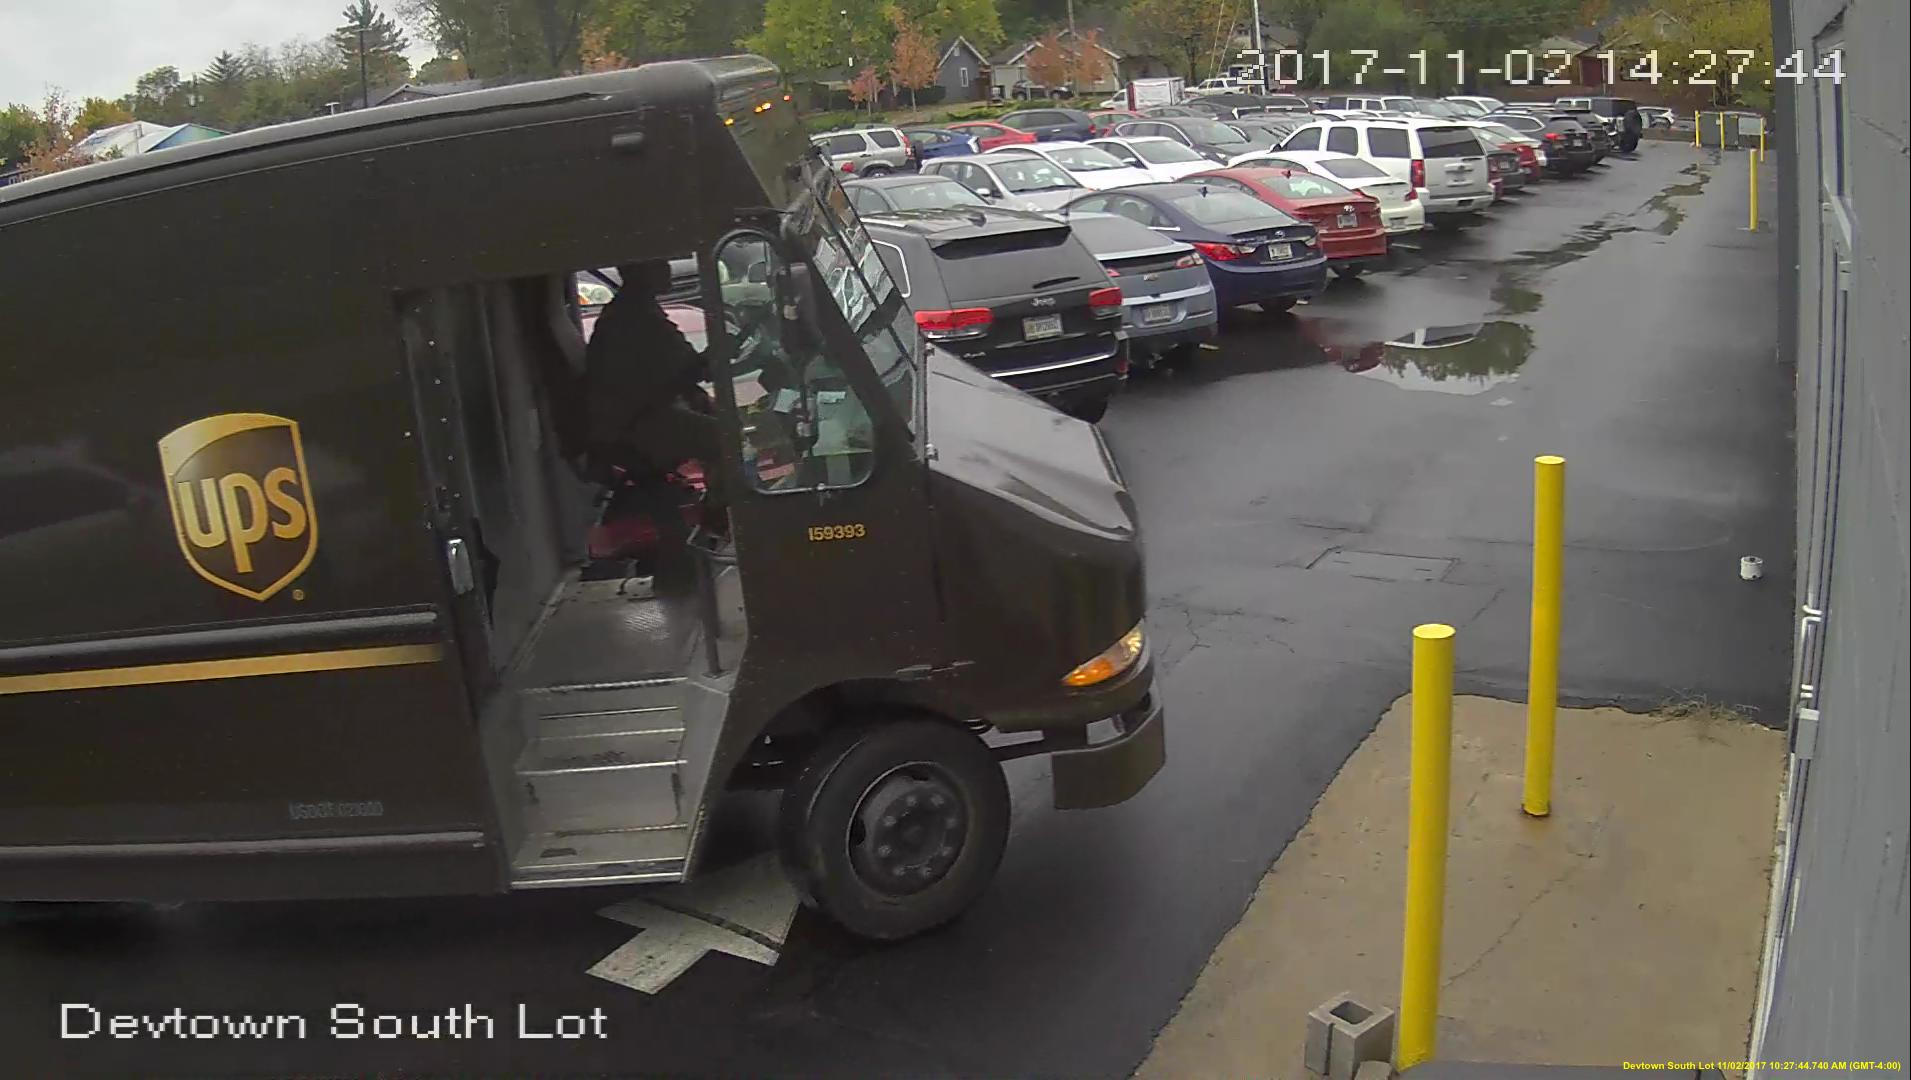ups_truck: (1, 52, 1165, 944)
